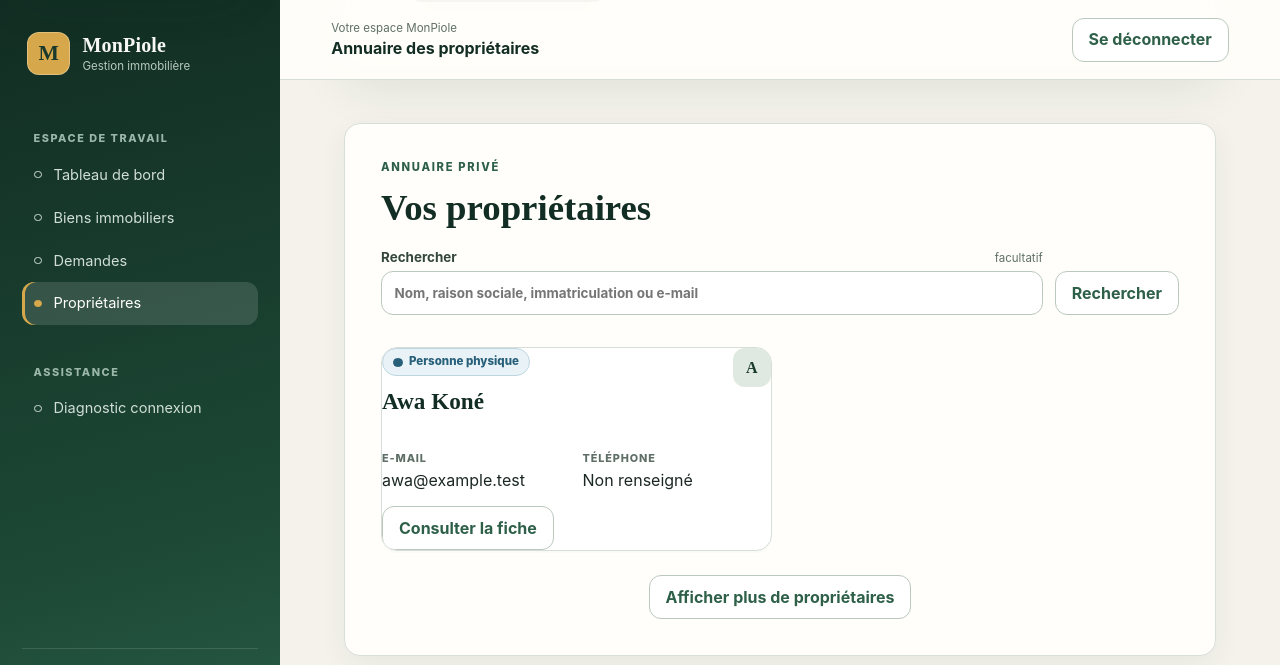
Scenario: annuaire Web des propriétaires › conserve les résultats si la page suivante échoue
(page scrolled)
Click the button "Afficher plus de propriétaires".
click(780, 597)  # box [649,575,911,619]
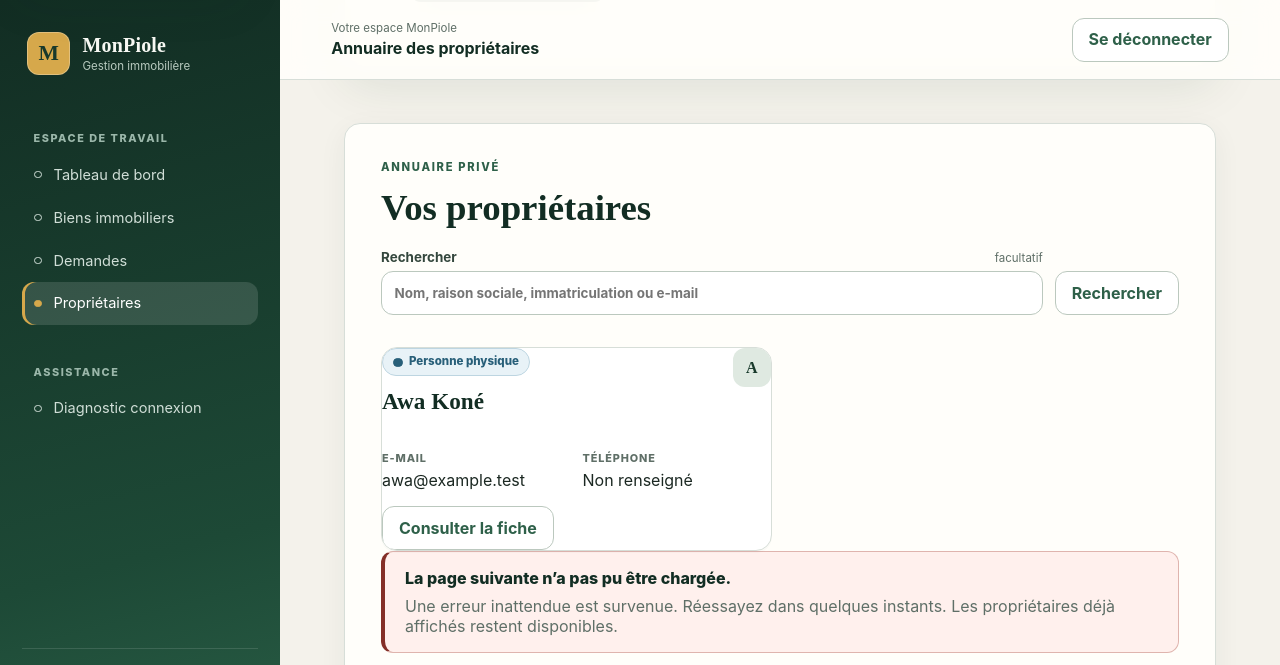
Check: the heading "Awa Koné" is shown, box [382,388,484,414]
Check: the message shows "déjà affichés restent disponibles", box [405,596,1115,636]
